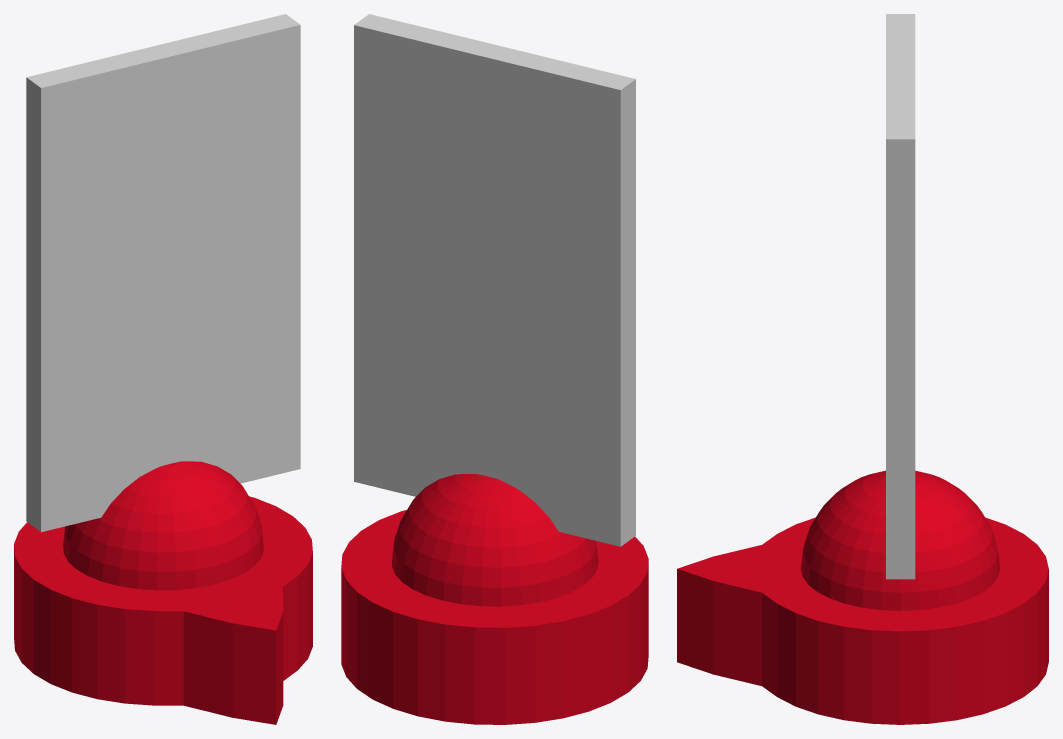
Rendered from Brik2.fbx.
3 renders of one model, left to right at view 1: azimuth 30°, elevation 25°; view 2: azimuth 150°, elevation 25°; view 3: azimuth 270°, elevation 25°, orthographic. The views are drawn at different scales.
Visible parts, largest first — view 1: Cube; view 2: Cube; view 3: Cube.
Boxes of the visible parts, x1,y1,x2,y2 form: Cube: (14,14,312,724); Cube: (341,14,648,724); Cube: (677,14,1048,724).
Bounding box in the file's own units: 200 × 436 × 251.
